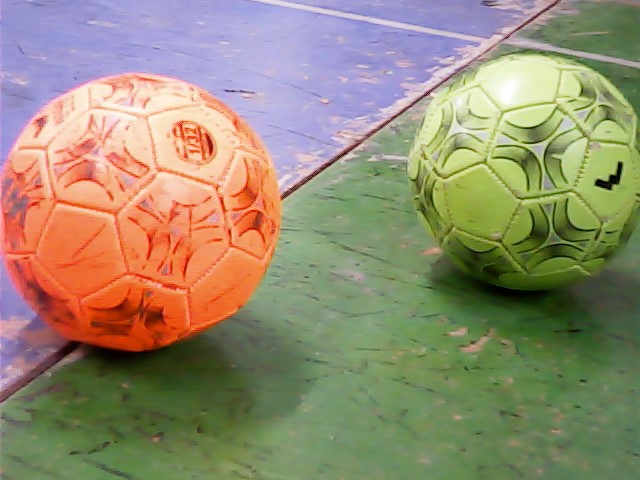Green_ball: (408, 49, 640, 294)
Orange_ball: (8, 73, 297, 357)
